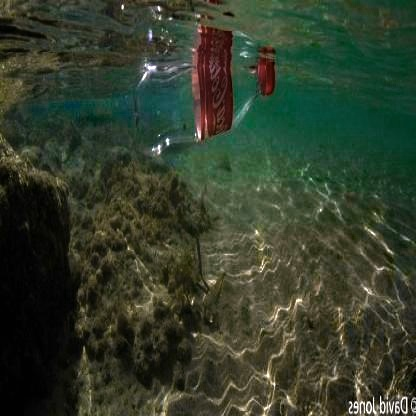pbottle: (132, 21, 280, 177)
